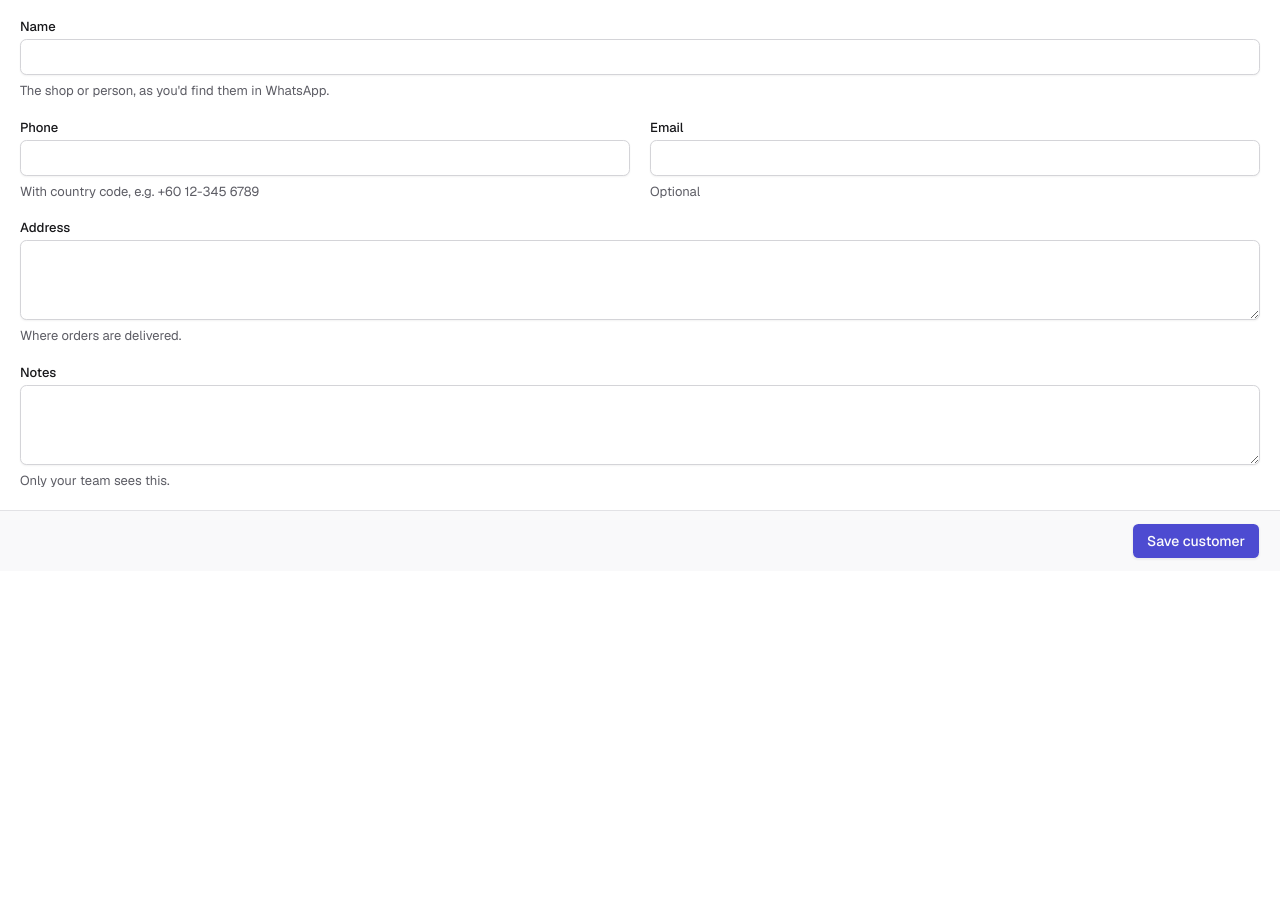
Scenario: CustomerForm › shows the API error and keeps everything the user typed
This screenshot has width=1280, height=900.
Step 1. Type "Kedai Baru" into the field labelled "Name" → (640, 57), box [20,39,1260,75]
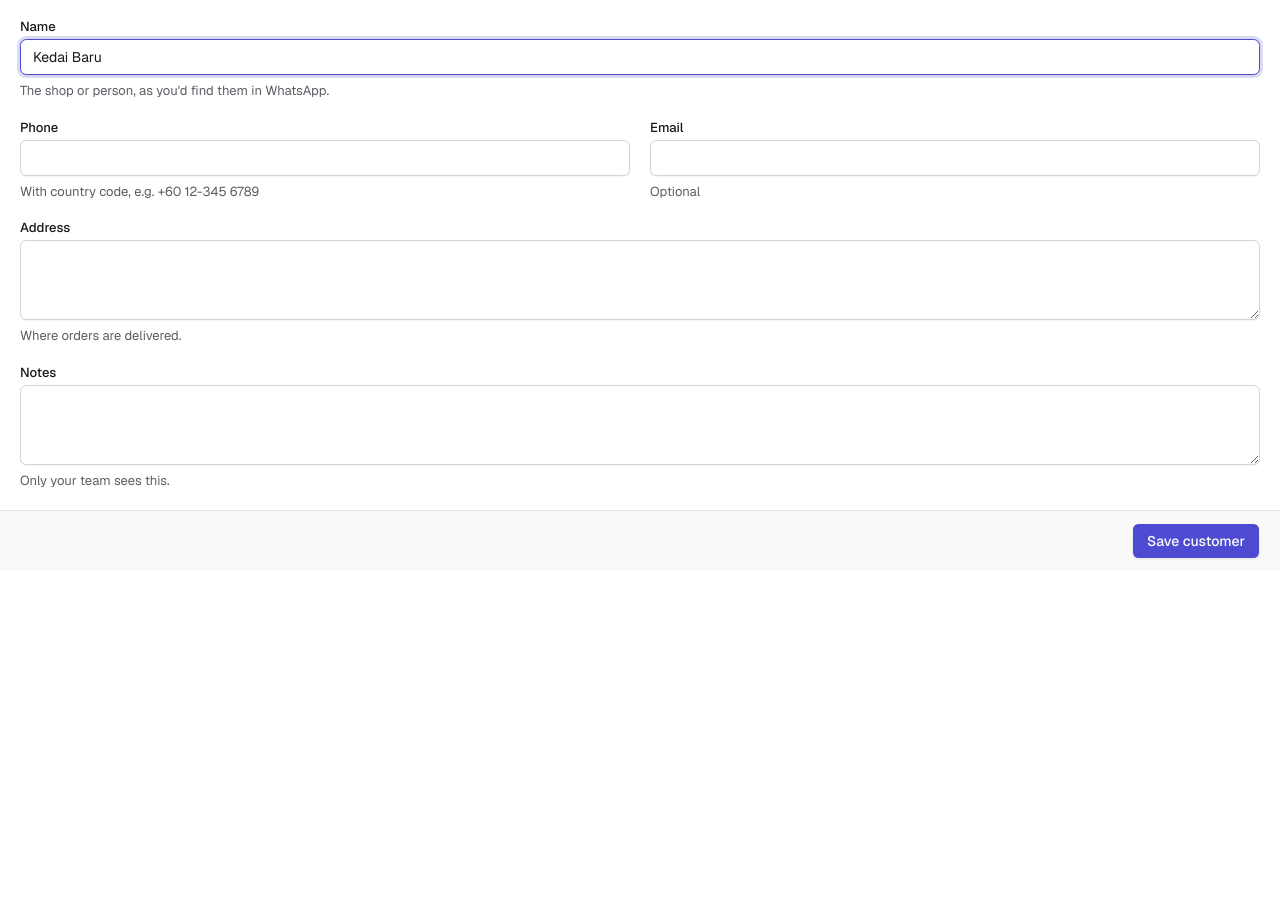
Step 2. Type "Jalan 2, Ipoh" into the text box labelled "Address" → (640, 280), box [20,240,1260,320]
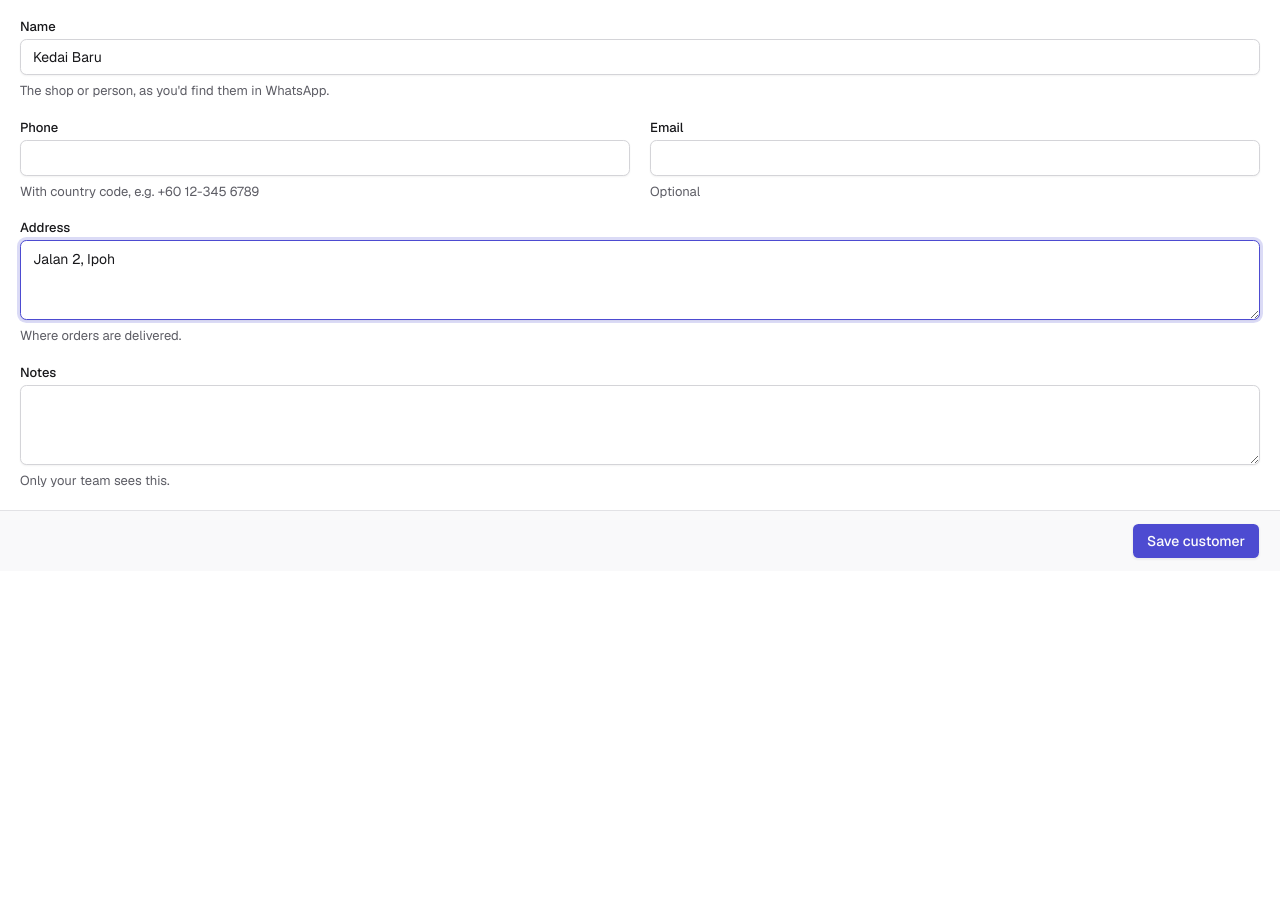
Step 3. Click the button "Save customer" → (1196, 541), box [1132,523,1260,559]
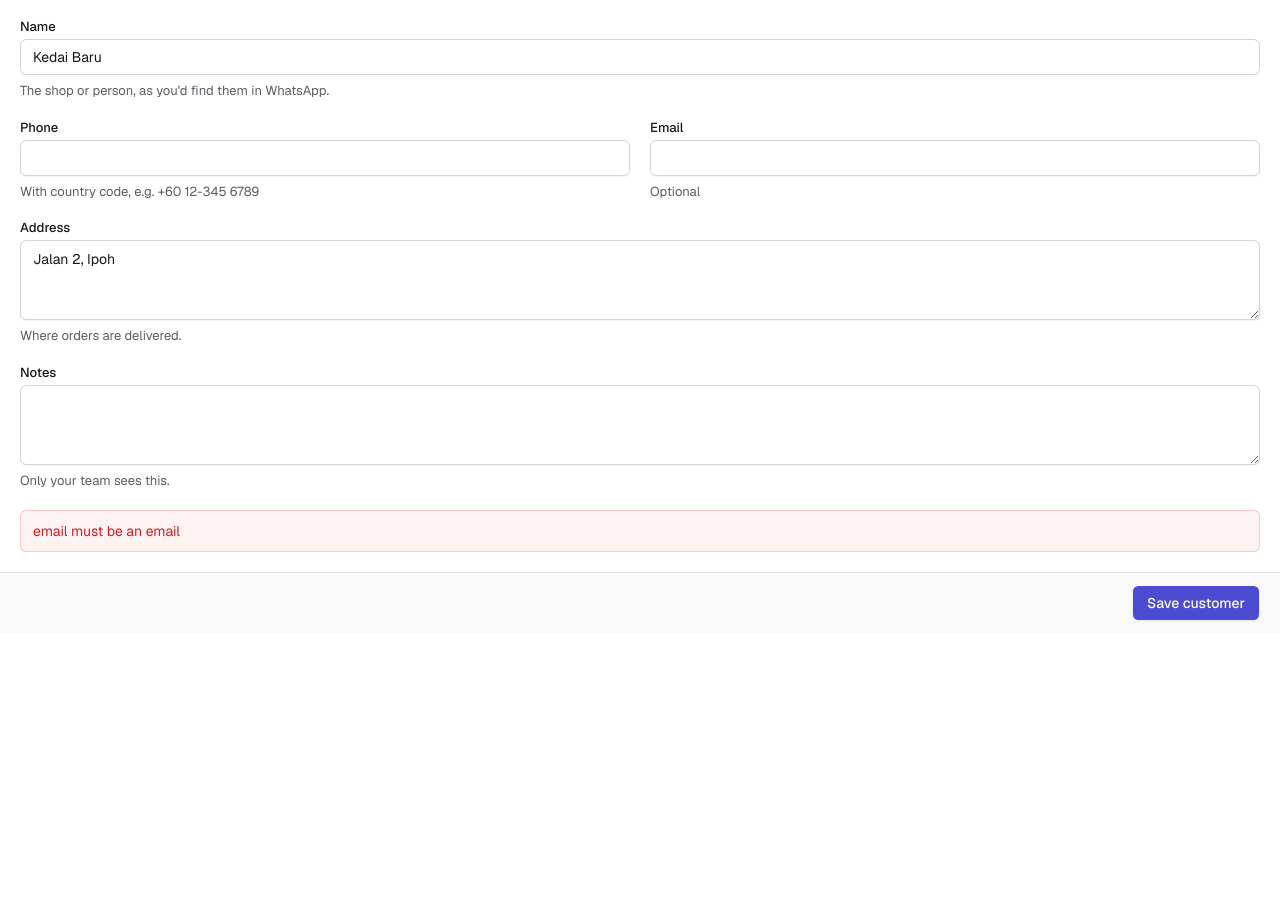
Now the message reads "email must be an email", box [33,522,180,540]
